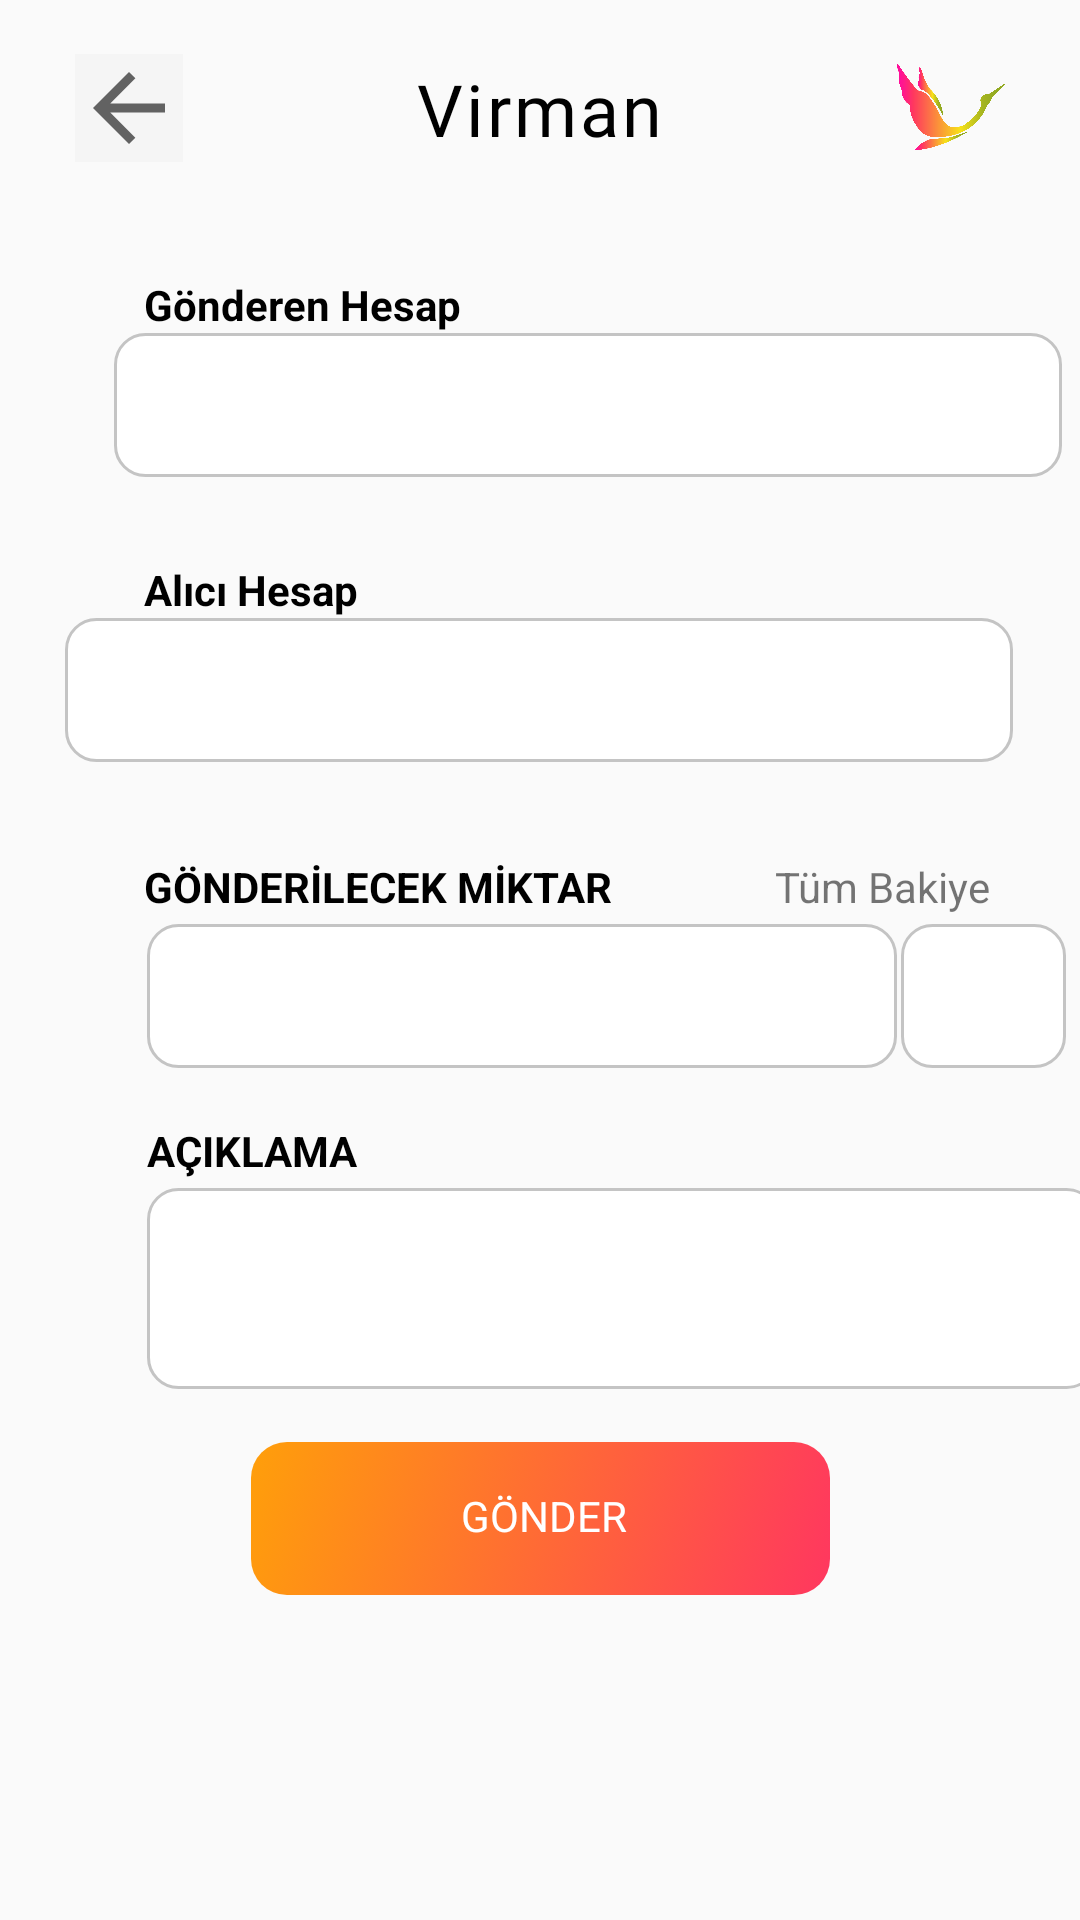

Where icons sit on this 1080×1920 app screen, as (x1, y1, x2, y2):
back: (93, 72, 165, 144)
stork: (897, 64, 1005, 150)
